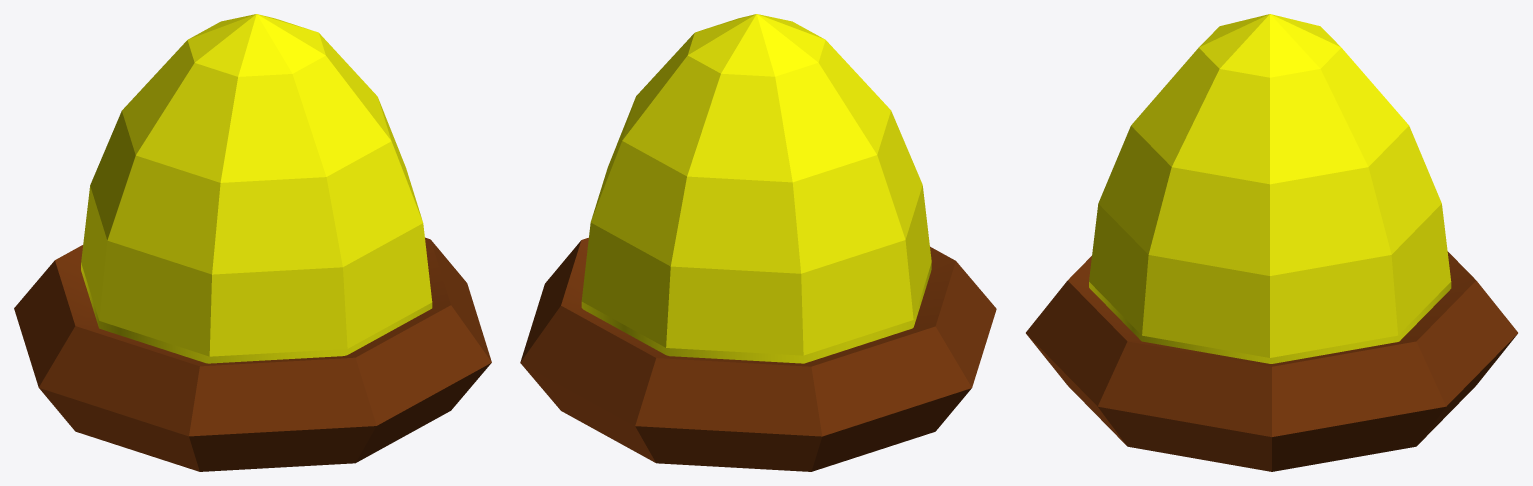
Rendered from OEUF.FBX.
3 renders of one model, left to right at view 1: azimuth 30°, elevation 25°; view 2: azimuth 150°, elevation 25°; view 3: azimuth 270°, elevation 25°, orthographic.
Visible parts, largest first — view 1: Cylinder096, Torus015; view 2: Cylinder096, Torus015; view 3: Cylinder096, Torus015.
Boxes of the visible parts, left/top/right/bottom form: Cylinder096: left=81, top=14, right=432, bottom=363; Torus015: left=14, top=237, right=491, bottom=471; Cylinder096: left=581, top=14, right=931, bottom=363; Torus015: left=520, top=237, right=996, bottom=471; Cylinder096: left=1089, top=14, right=1451, bottom=363; Torus015: left=1026, top=251, right=1517, bottom=471.
Size of the model in its own units: 57.31 by 47.78 by 57.31.
